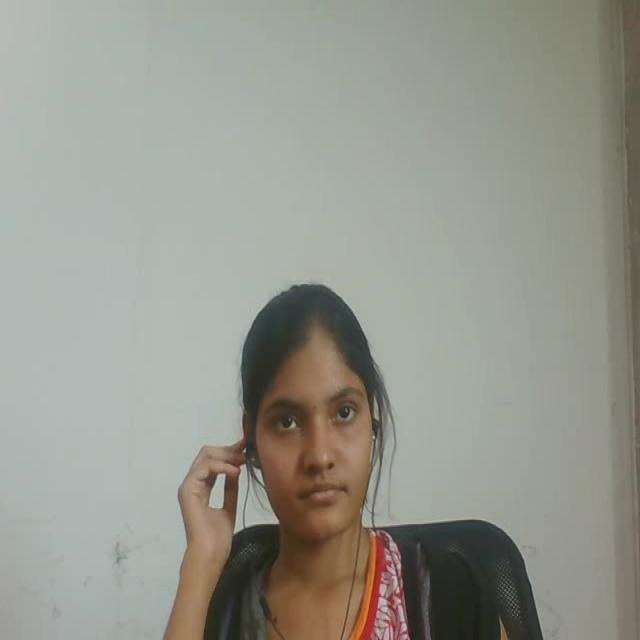Engaged: (216, 262, 418, 566)
